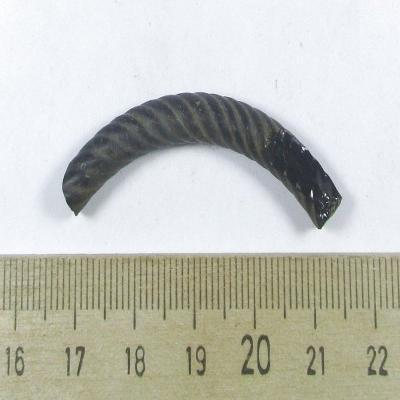archeology: (62, 93, 343, 230)
